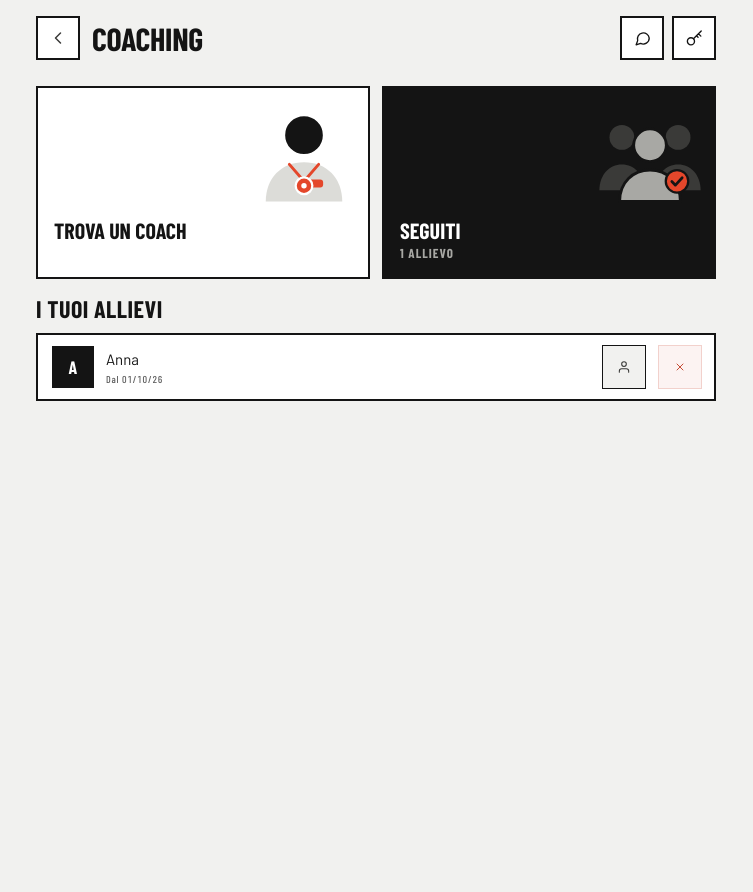
Test case: il numero nella pagina dell’allievo › rinumerare una scheda che non c’è più lo dice, e non scrive niente
The width and height of the screenshot is (753, 892).
Click the button "A Anna Dal 01/10/26". click: [108, 367]
box: [52, 346, 163, 388]
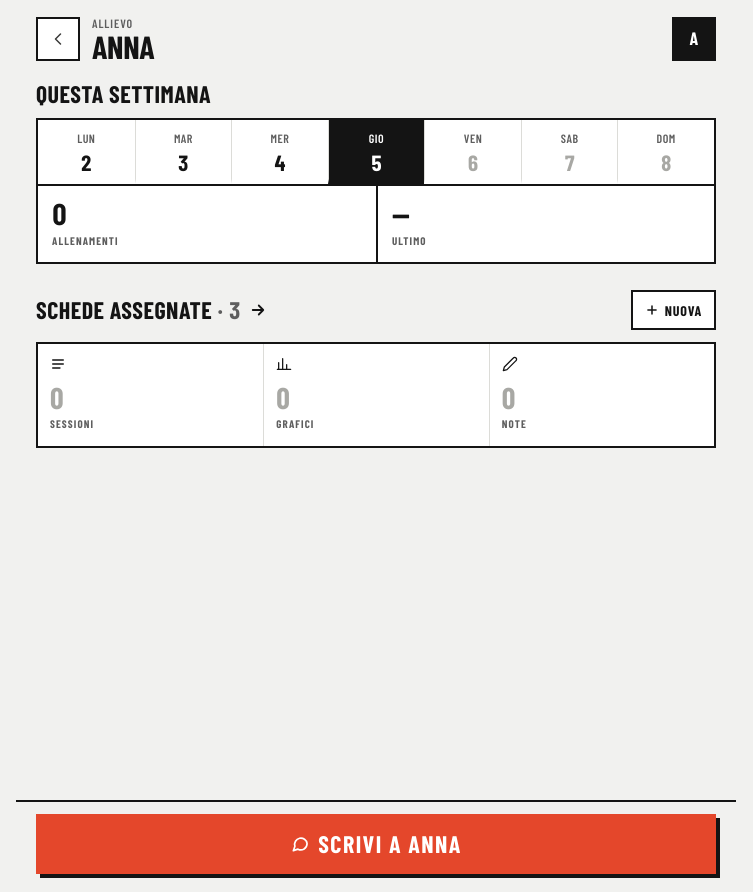
Click the button "Schede assegnate · 3". click: [152, 310]
box: [36, 290, 267, 330]
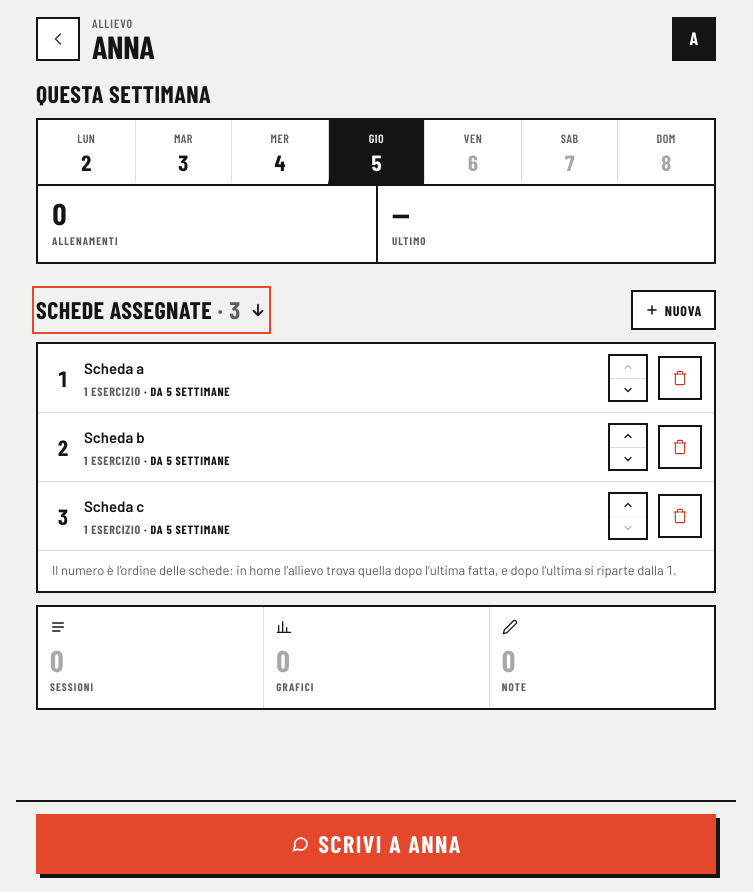
Click the button named "Sposta su Scheda c". click: [628, 505]
box: [610, 494, 646, 516]
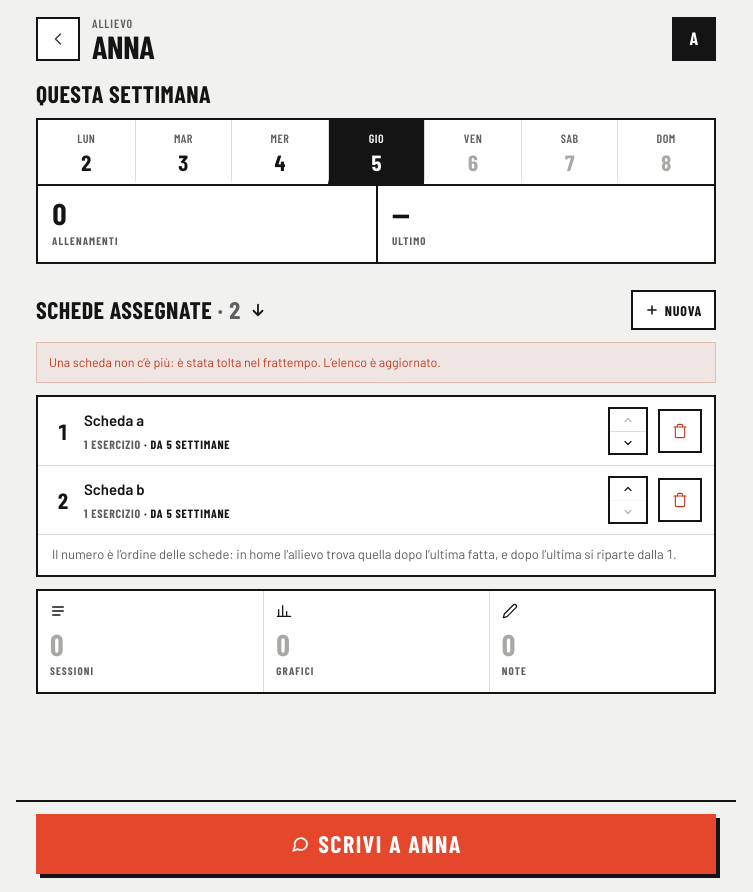
Result: the text "Una scheda non c’è più: è stata tolta nel frattempo. L’elenco è aggiornato." is shown at [36, 342, 716, 383]
Result: the button "Scheda c" is gone
